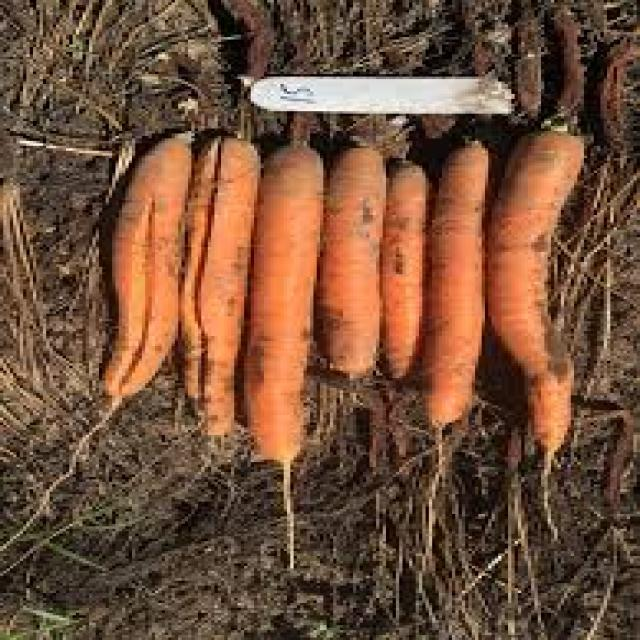Stale_Carrot: (505, 122, 595, 502), (255, 128, 318, 481)
